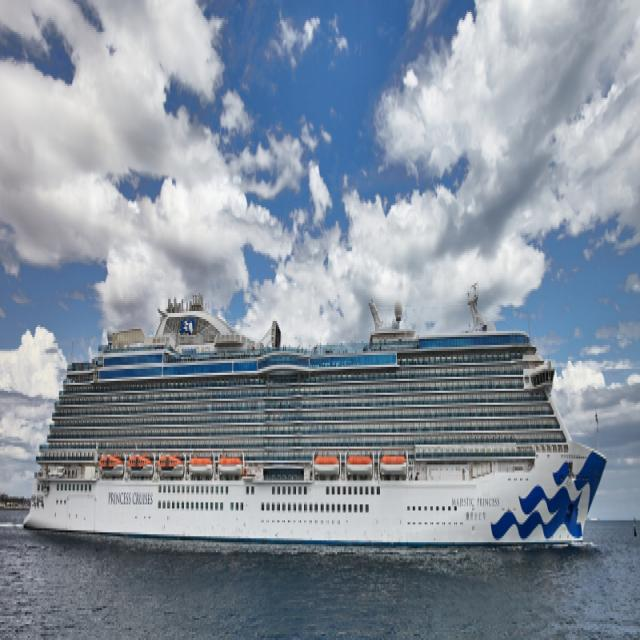cruises: (22, 290, 611, 563)
